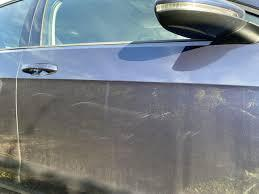scratch: (128, 102, 188, 129)
